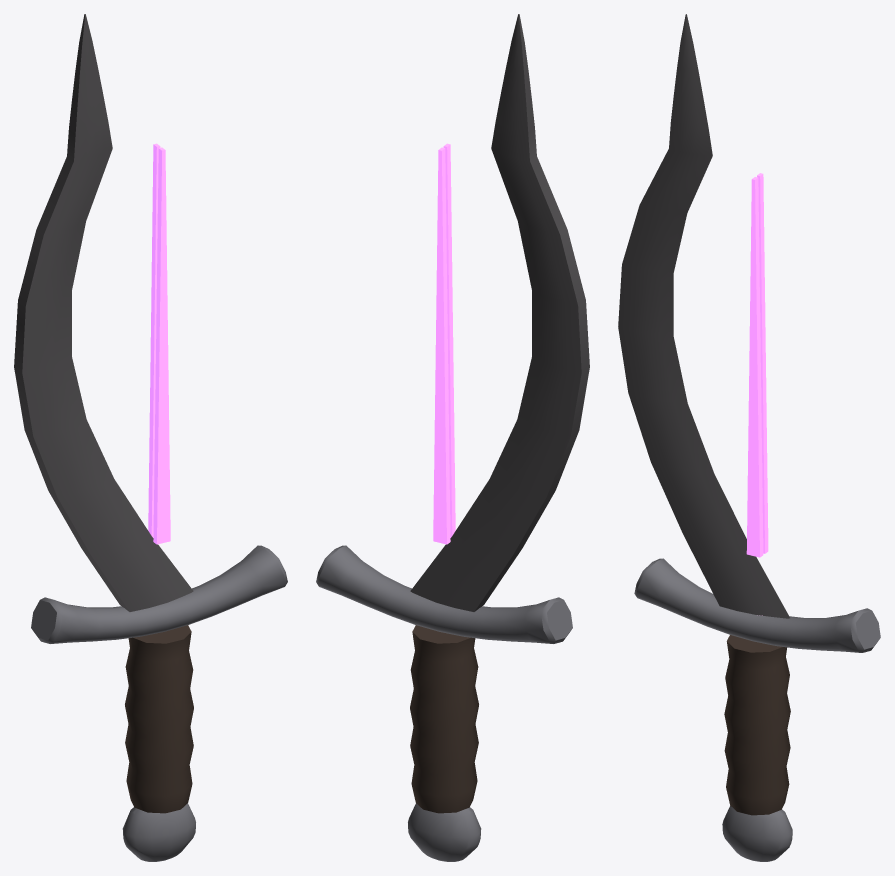
The model's file is nightwhisper.glb.
The picture shows the model from 3 angles, left to right: view 1: azimuth 30°, elevation 25°; view 2: azimuth 150°, elevation 25°; view 3: azimuth 330°, elevation 25°; orthographic projection. The views are drawn at different scales.
Visible parts, largest first — view 1: nightwhisper; view 2: nightwhisper; view 3: nightwhisper.
Part boxes in pixels (x1=…): nightwhisper: x1=14, y1=14, x2=287, y2=861; nightwhisper: x1=316, y1=14, x2=589, y2=861; nightwhisper: x1=618, y1=14, x2=880, y2=861.
Bounding box in the file's own units: 0.1364 × 0.4282 × 0.0299.
